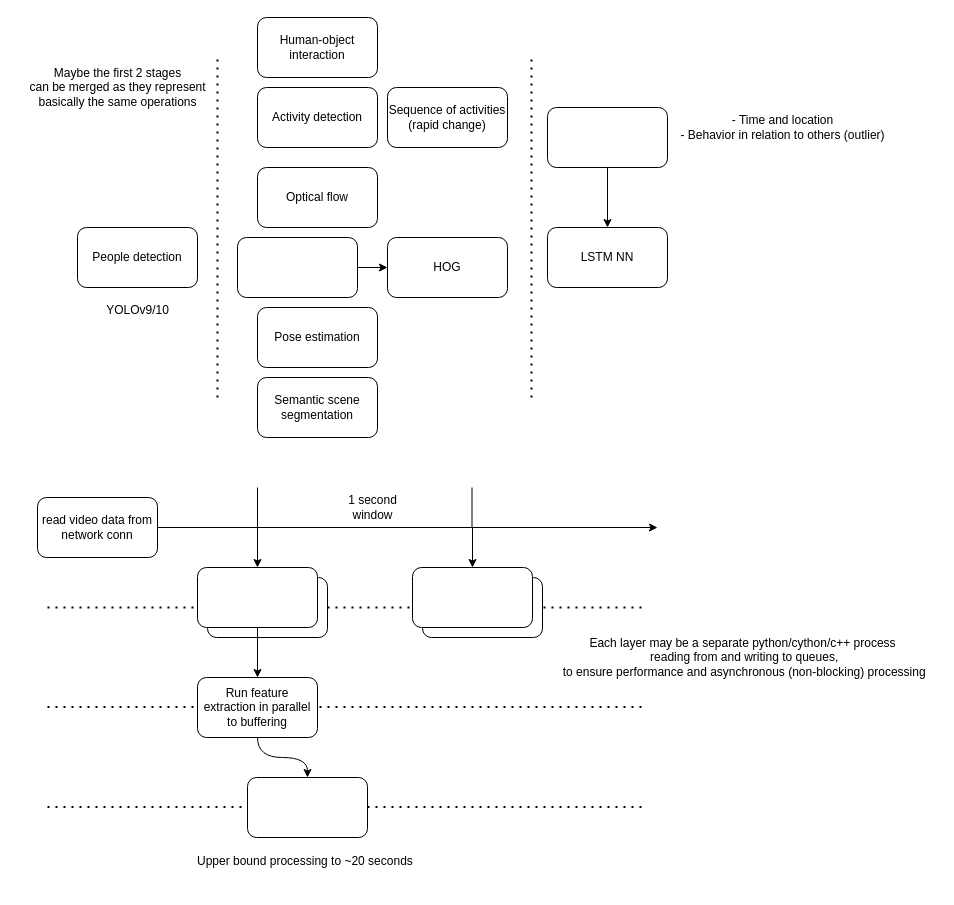
Image size: 954x905. Some labels were removed from this diagram. The shapes that lost their labels are listed below. From the top down, each one's box as (x1, y1, x2, y2) in pixels, then its label:
(546, 106, 668, 168): Context clues
(236, 236, 358, 298): Temporal difference
(196, 566, 318, 628): start buffering 5 seconds worth of frames
(412, 566, 532, 628): start buffering
(246, 776, 368, 838): Extract feature vectors and start analysis
